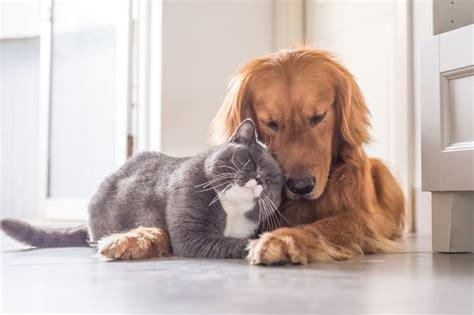cat: (1, 119, 282, 256)
dog: (99, 47, 404, 265)
